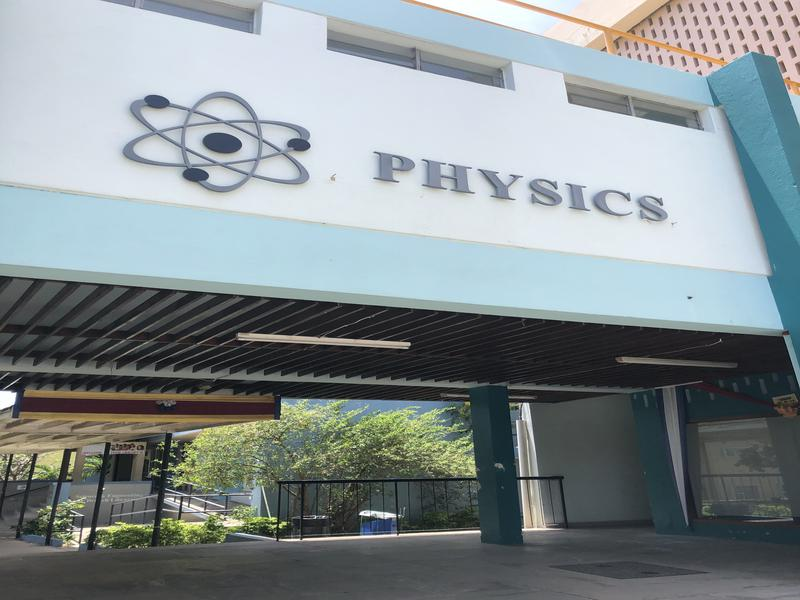18.0053657_-76.7491452_physicssign: (112, 67, 715, 262)
